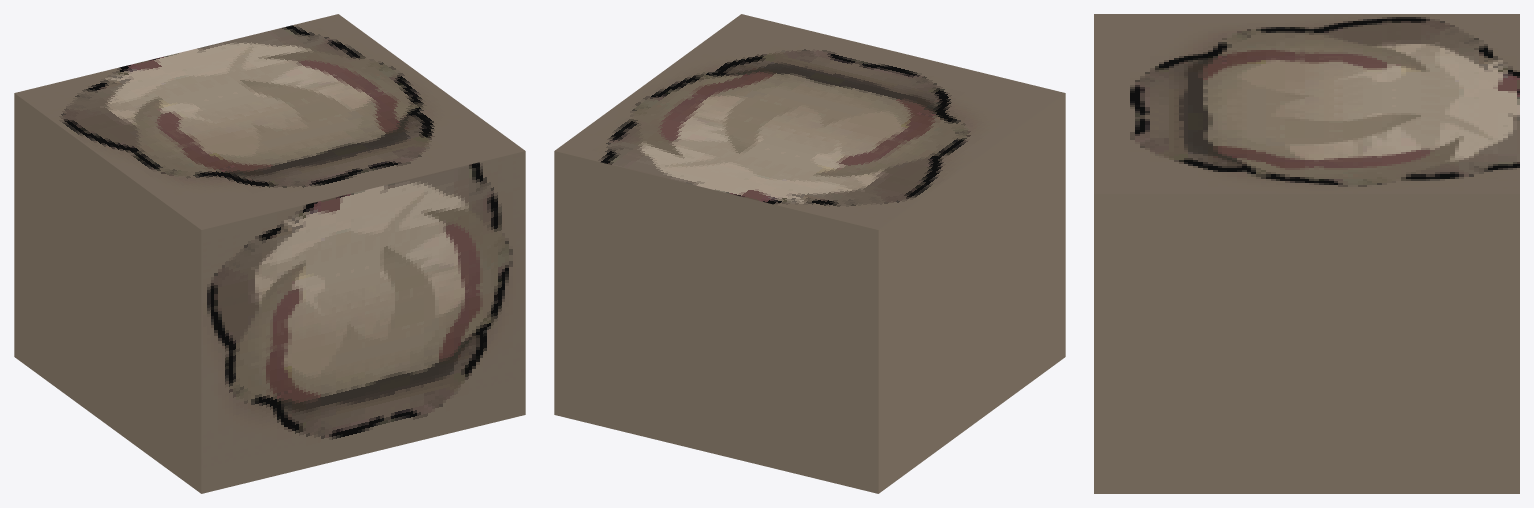
File: Building_CocoonMegaspider.glb
3 views of the same model, side by side, from view 1: azimuth 30°, elevation 25°; view 2: azimuth 150°, elevation 25°; view 3: azimuth 270°, elevation 25° (orthographic). The views are drawn at different scales.
Parts seen in each view (by area): view 1: CocoonMegaspider; view 2: CocoonMegaspider; view 3: CocoonMegaspider.
Part boxes in pixels (x1=…): CocoonMegaspider: x1=14, y1=14, x2=525, y2=493; CocoonMegaspider: x1=554, y1=14, x2=1065, y2=493; CocoonMegaspider: x1=1094, y1=14, x2=1519, y2=493.
Bounding box in the file's own units: 0.9 × 0.7 × 0.9.
Materials: 1 (1 with a texture image).
